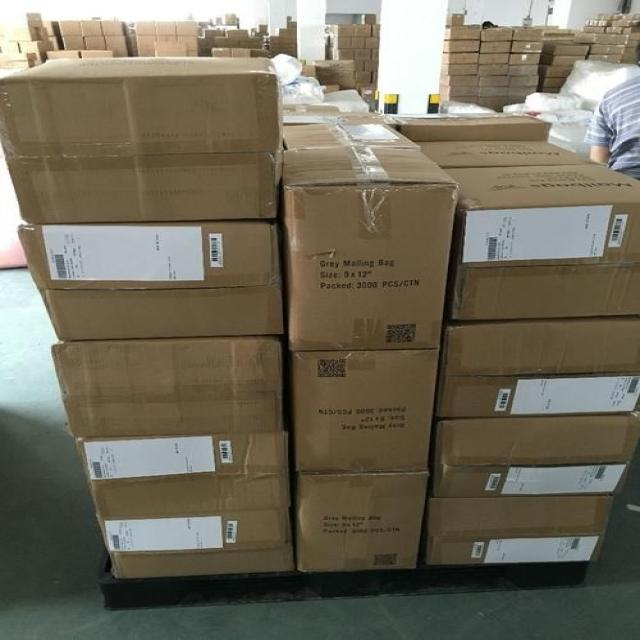box: (1, 57, 285, 221), (283, 148, 460, 351), (13, 223, 287, 342), (444, 165, 640, 320), (47, 339, 282, 438), (436, 316, 640, 417), (291, 349, 440, 472), (74, 431, 291, 514), (433, 413, 640, 497), (92, 508, 296, 581), (426, 495, 616, 565), (296, 473, 430, 571), (384, 111, 552, 141), (415, 141, 603, 167), (284, 121, 420, 149), (284, 111, 396, 124), (575, 31, 630, 45), (543, 41, 589, 55), (19, 40, 47, 62), (106, 36, 133, 57), (540, 54, 585, 66), (269, 36, 296, 55), (440, 84, 477, 97), (154, 42, 187, 56), (442, 40, 480, 52), (445, 28, 481, 40), (539, 65, 575, 77), (440, 75, 479, 86), (136, 36, 157, 56), (589, 44, 627, 55), (440, 64, 477, 75), (481, 28, 512, 41), (102, 20, 127, 36), (511, 41, 544, 53), (178, 36, 197, 56), (513, 29, 544, 41), (81, 20, 104, 36), (508, 65, 538, 77), (442, 53, 477, 63), (477, 64, 508, 75), (480, 41, 511, 52), (508, 76, 539, 87), (10, 28, 38, 40), (156, 20, 177, 36), (177, 20, 198, 36), (60, 21, 82, 36), (133, 20, 155, 35), (479, 53, 509, 64), (440, 94, 476, 103), (509, 54, 540, 64), (47, 50, 81, 59), (539, 77, 566, 88), (63, 36, 84, 50), (84, 36, 106, 49), (1, 60, 36, 68), (588, 55, 623, 63), (477, 87, 508, 96), (477, 97, 507, 106), (480, 76, 507, 86), (0, 53, 36, 60), (508, 87, 536, 96), (1, 41, 20, 54), (81, 50, 114, 57), (353, 24, 372, 36), (214, 37, 239, 46), (335, 59, 355, 70), (44, 21, 59, 35), (312, 59, 330, 70), (338, 23, 353, 36), (355, 48, 371, 60), (447, 13, 463, 25), (612, 20, 639, 27), (50, 36, 64, 49), (212, 47, 230, 57), (356, 71, 371, 83), (337, 49, 355, 59), (275, 28, 297, 36), (232, 48, 251, 57), (338, 36, 352, 48), (364, 60, 379, 71), (361, 13, 376, 24), (241, 37, 259, 46), (337, 70, 355, 79), (585, 20, 611, 26), (365, 37, 379, 48), (582, 26, 607, 32), (507, 96, 525, 104), (303, 65, 316, 76), (225, 30, 247, 36), (225, 13, 237, 24), (353, 37, 365, 48), (536, 88, 561, 93), (157, 36, 177, 42), (372, 24, 381, 36), (607, 27, 623, 33), (28, 13, 41, 20), (205, 29, 216, 37), (356, 60, 364, 71), (28, 21, 42, 27), (372, 49, 379, 59), (372, 72, 378, 83), (260, 25, 268, 32)
